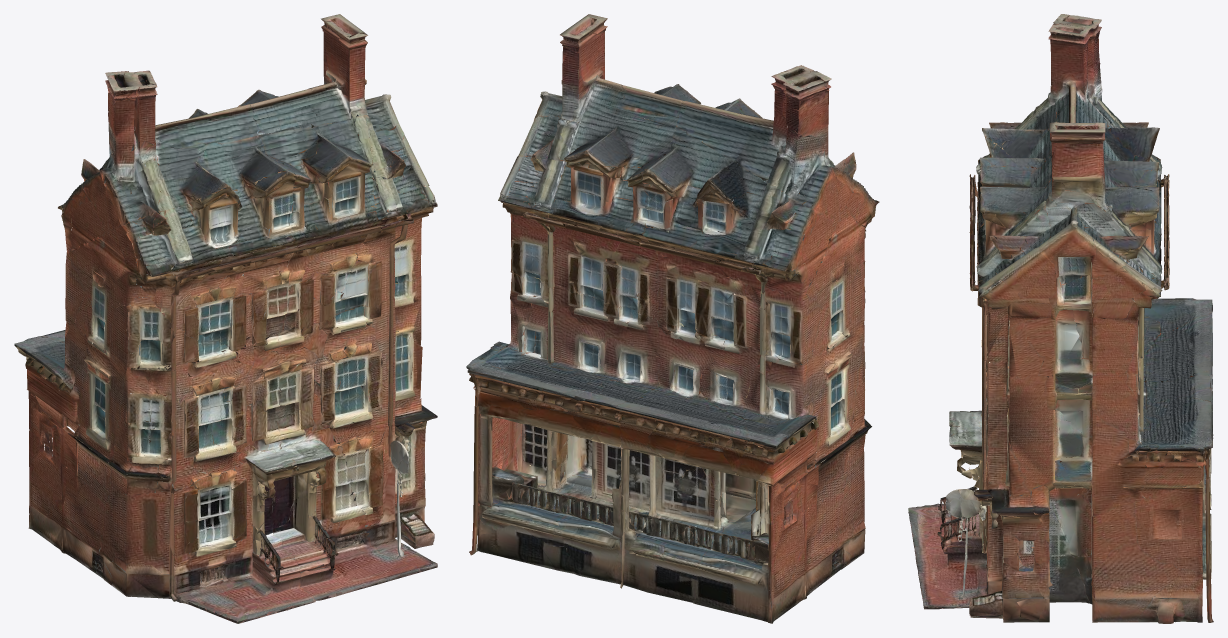
The model's file is bldg-brick.glb.
The picture shows the model from 3 angles, left to right: view 1: azimuth 30°, elevation 25°; view 2: azimuth 150°, elevation 25°; view 3: azimuth 270°, elevation 25°; orthographic projection. The views are drawn at different scales.
Visible parts, largest first — view 1: Mesh_0; view 2: Mesh_0; view 3: Mesh_0.
Boxes of the visible parts, box(x1,y1,x2,y2) form: Mesh_0: box(14, 14, 437, 623); Mesh_0: box(466, 14, 879, 623); Mesh_0: box(908, 14, 1213, 623).
Bounding box in the file's own units: 1.28 × 1.9 × 1.11.
1 material, 1 textured.
